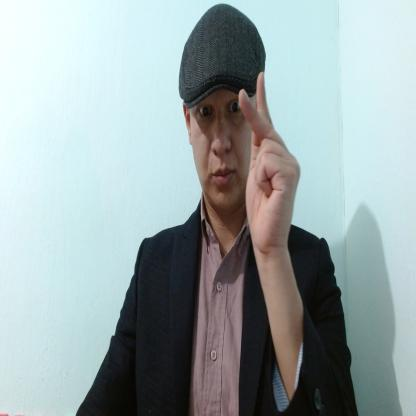P: (234, 70, 302, 258)
